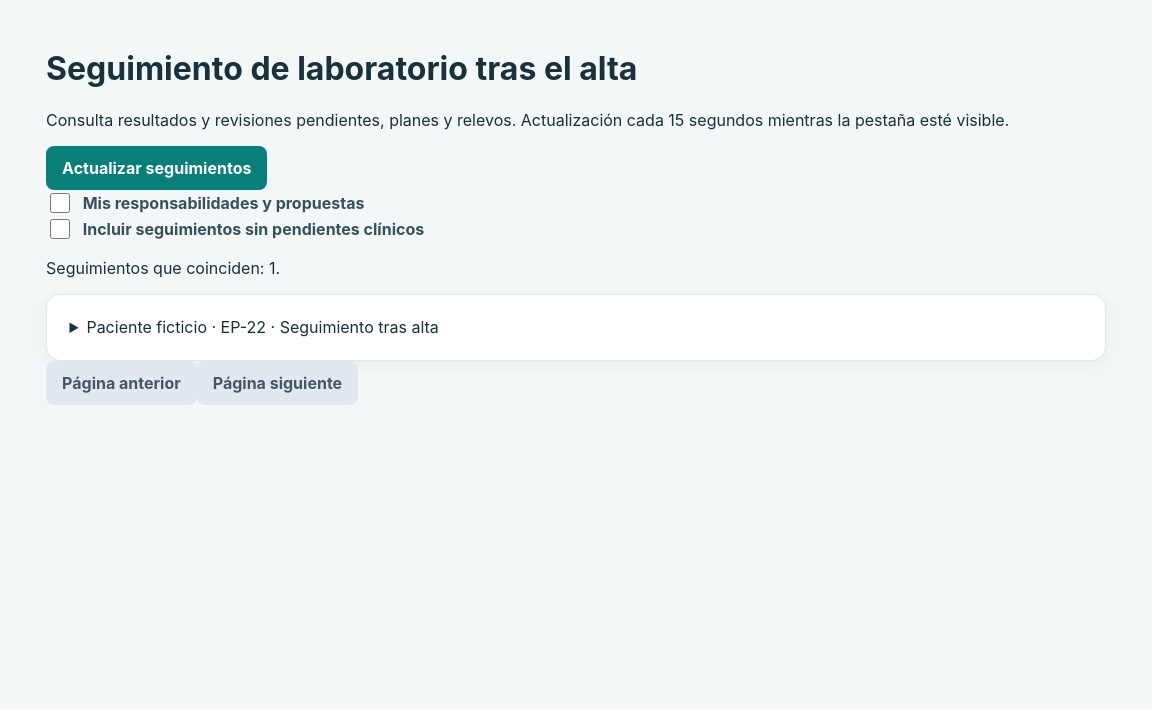
propone relevo, confirma y actualiza versión sin cambiar al responsable
The width and height of the screenshot is (1152, 709).
Click the heading "Paciente ficticio · EP-22 · Seguimiento tras alta" at (263, 327), box x1=86 y1=317 x2=439 y2=337
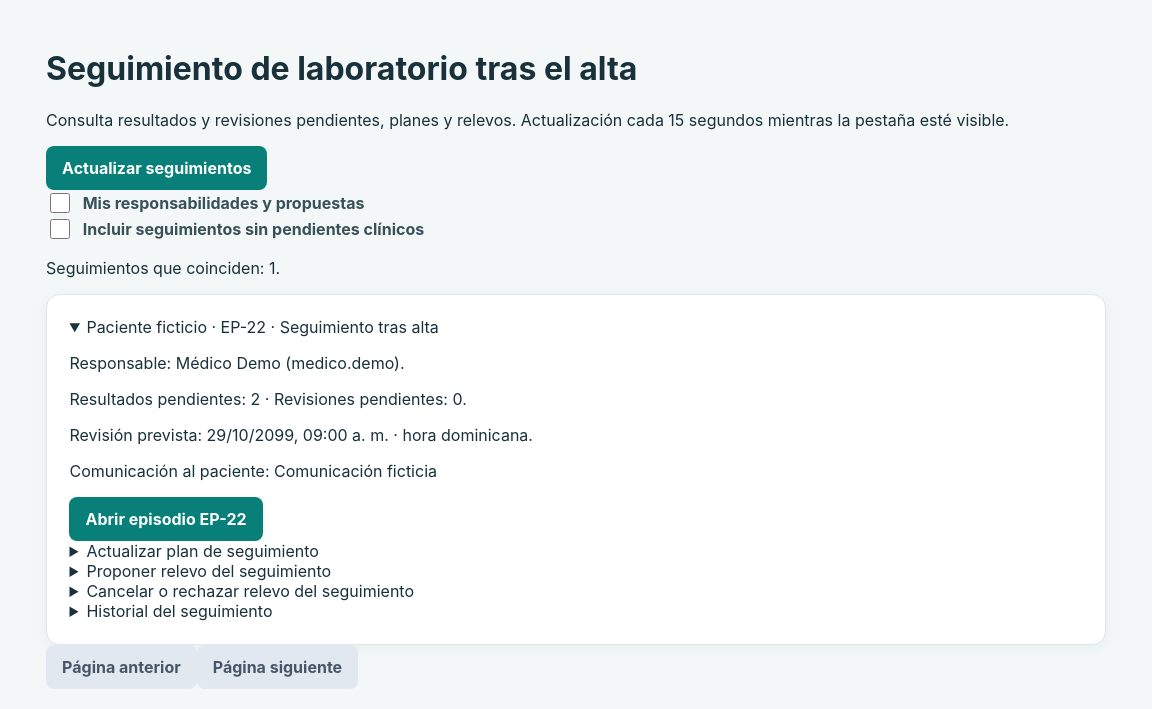
Click the heading "Proponer relevo del seguimiento" at (209, 571), box x1=86 y1=561 x2=331 y2=581
(page scrolled)
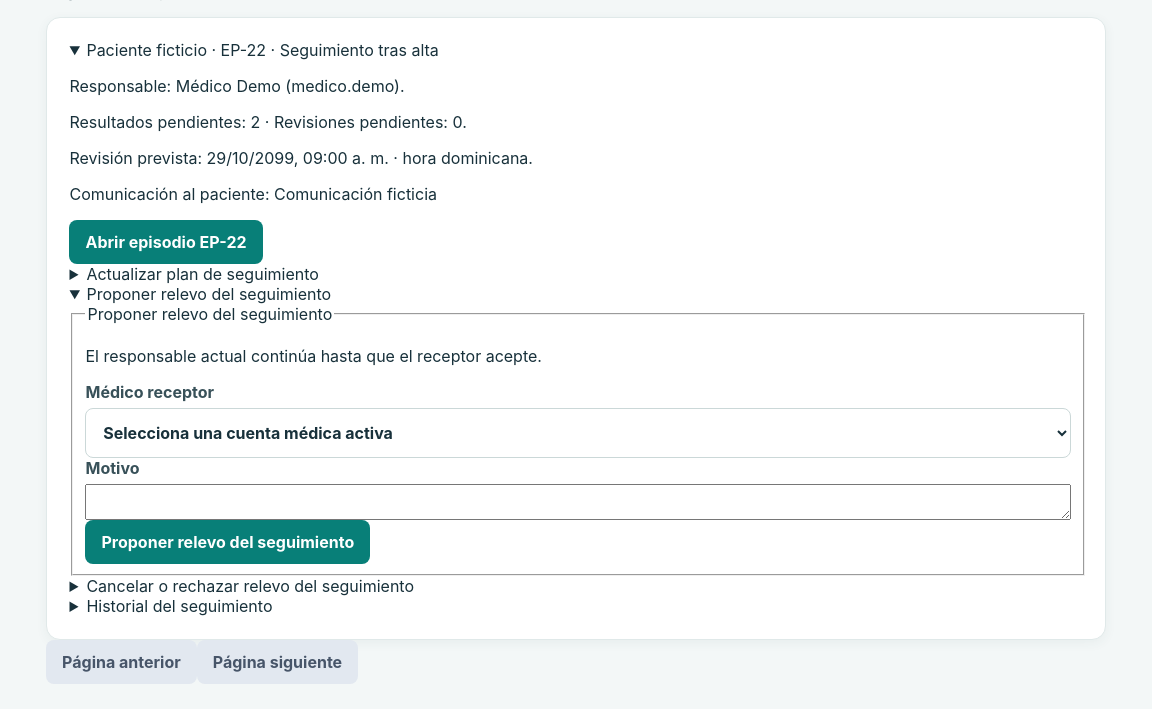
Type "Relevo ficticio de seguimiento" into the text box labelled "Motivo" at (578, 502), box x1=86 y1=484 x2=1071 y2=520
(page scrolled)
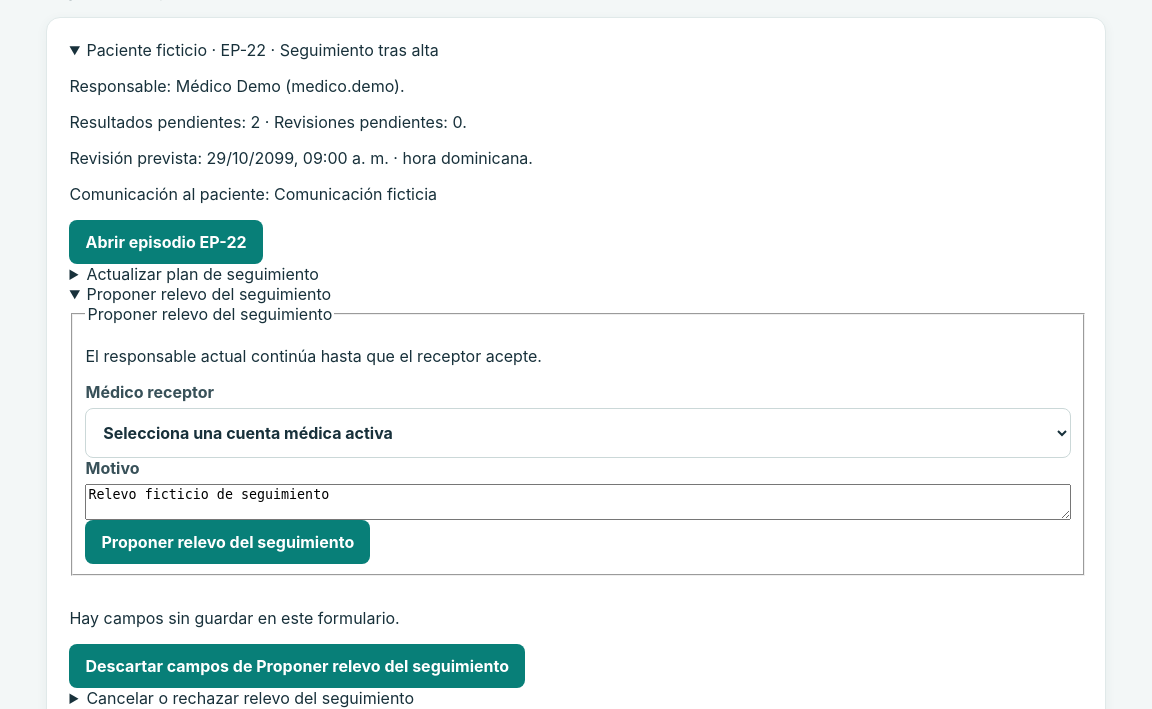
Select "Médico Relevo (medico.relevo)" in the dropdown labelled "Médico receptor" at (578, 433), box x1=86 y1=408 x2=1071 y2=458
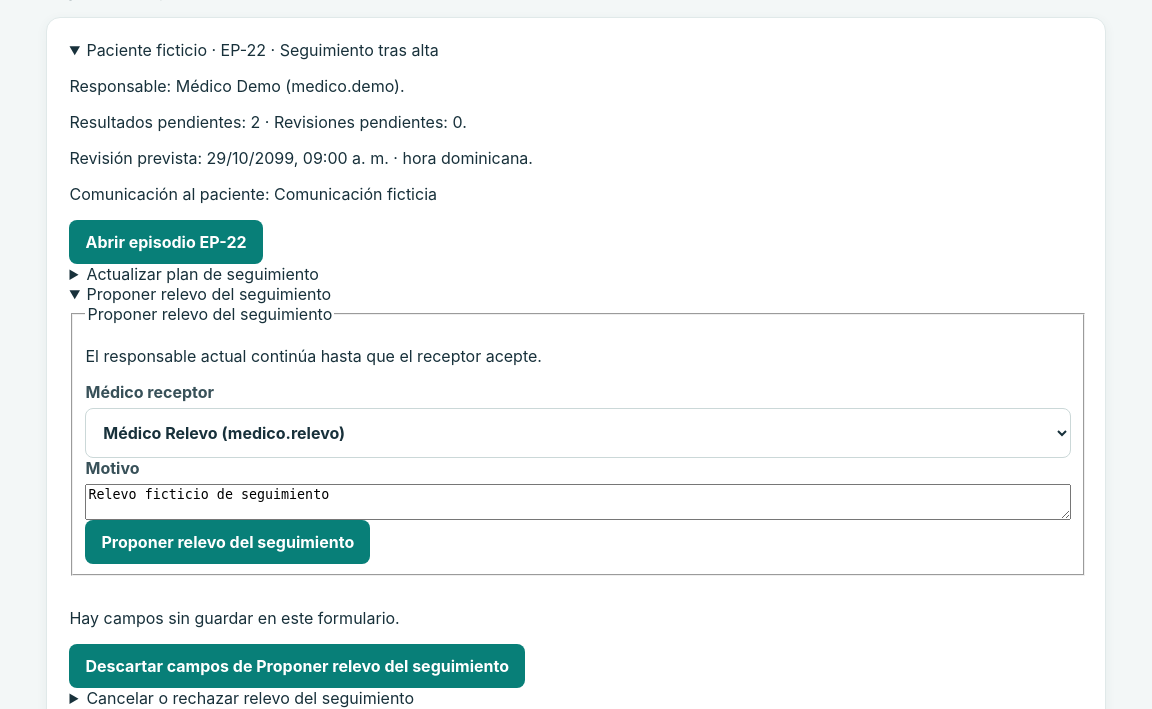
Click the button "Proponer relevo del seguimiento" at (228, 542), box x1=86 y1=520 x2=370 y2=564
(page scrolled)
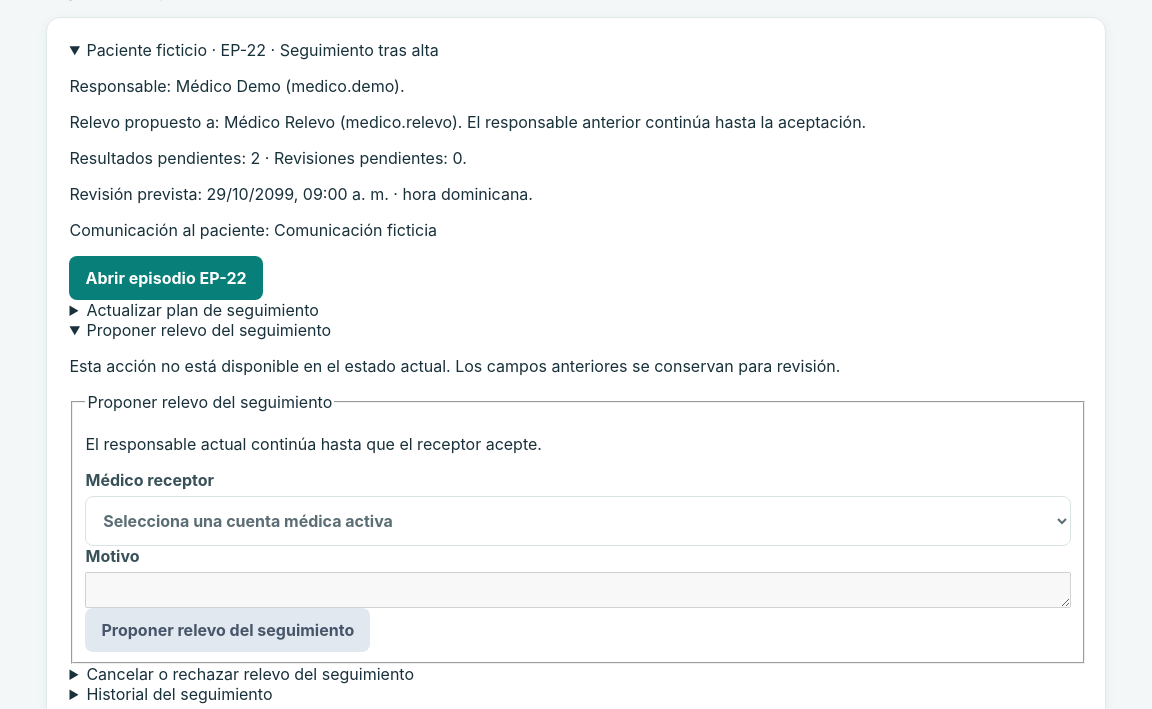
Expected: the text box labelled "Motivo" is empty, x1=86 y1=572 x2=1071 y2=608
Expected: the text "Responsable: Médico Demo (medico.demo)." is shown, x1=70 y1=76 x2=405 y2=96
Expected: the text "Relevo propuesto a: Médico Relevo" is shown, x1=70 y1=112 x2=866 y2=132
